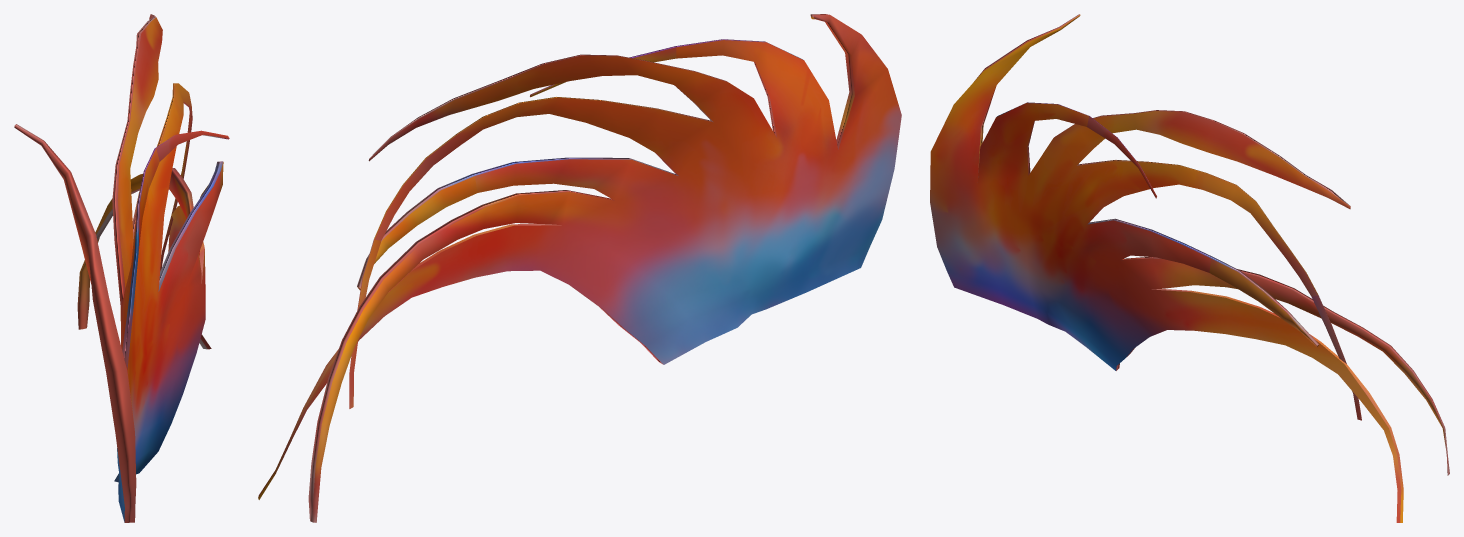
The model's file is fin_top.obj.
The picture shows the model from 3 angles, left to right: view 1: azimuth 30°, elevation 25°; view 2: azimuth 150°, elevation 25°; view 3: azimuth 270°, elevation 25°; orthographic projection. The views are drawn at different scales.
Visible parts, largest first — view 1: UpperFin_fin_top_0; view 2: UpperFin_fin_top_0; view 3: UpperFin_fin_top_0.
Boxes of the visible parts, x1=… form: UpperFin_fin_top_0: x1=14, y1=14, x2=229, y2=522; UpperFin_fin_top_0: x1=258, y1=14, x2=901, y2=522; UpperFin_fin_top_0: x1=930, y1=14, x2=1449, y2=522.
Bounding box in the file's own units: 0.3596 × 0.4012 × 0.5237.
